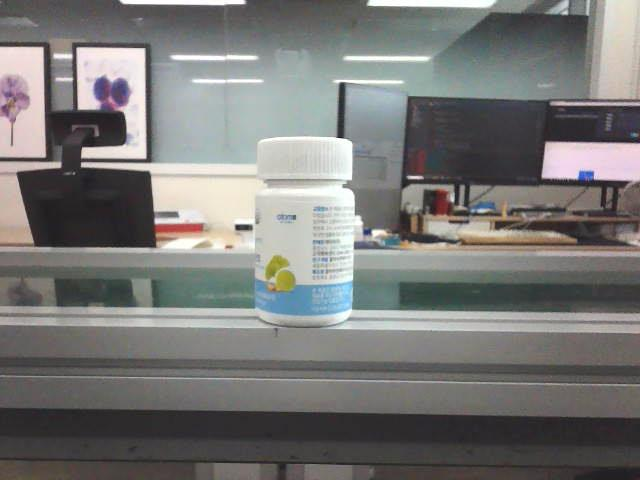labeled: (249, 128, 360, 329)
